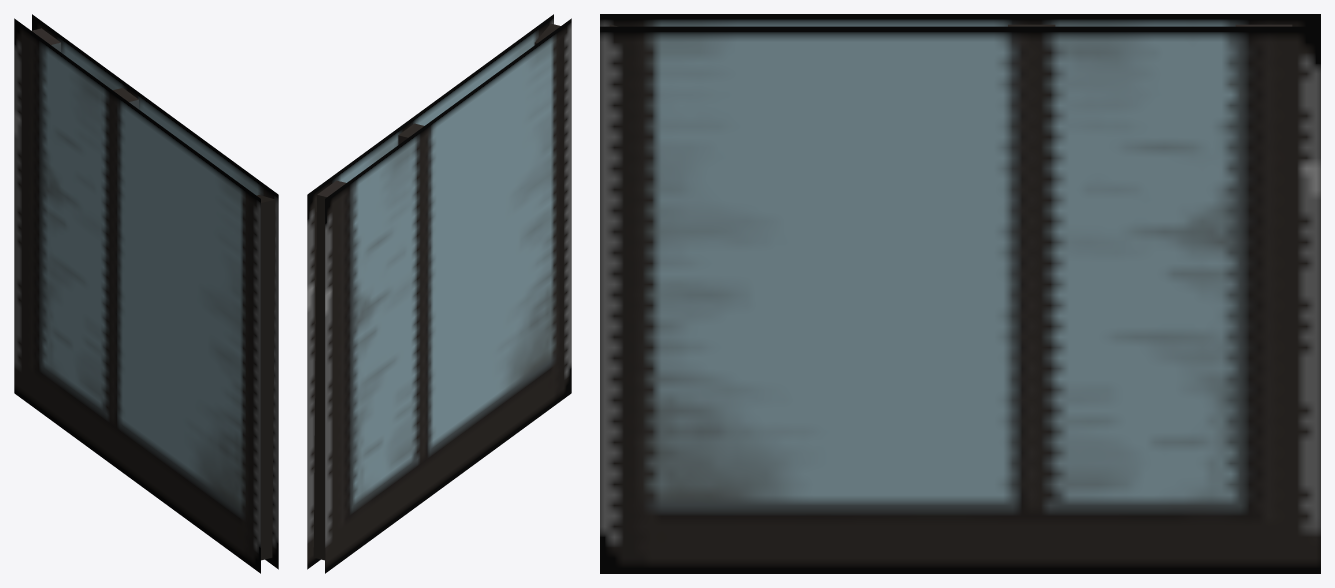
Rendered from pz_native_fixtures_windows_01_49_frame.obj.
The picture shows the model from 3 angles, left to right: view 1: azimuth 30°, elevation 25°; view 2: azimuth 150°, elevation 25°; view 3: azimuth 270°, elevation 25°; orthographic projection. The views are drawn at different scales.
Visible parts, largest first — view 1: pz_native_fixtures_windows_01_49_frame; view 2: pz_native_fixtures_windows_01_49_frame; view 3: pz_native_fixtures_windows_01_49_frame.
Part boxes in pixels (x1,y1,x2,y2): pz_native_fixtures_windows_01_49_frame: (14,14,278,573); pz_native_fixtures_windows_01_49_frame: (307,14,571,573); pz_native_fixtures_windows_01_49_frame: (600,14,1320,573).
Bounding box in the file's own units: 0.04 × 0.8125 × 0.9696.
Materials: 1 (1 with a texture image).
